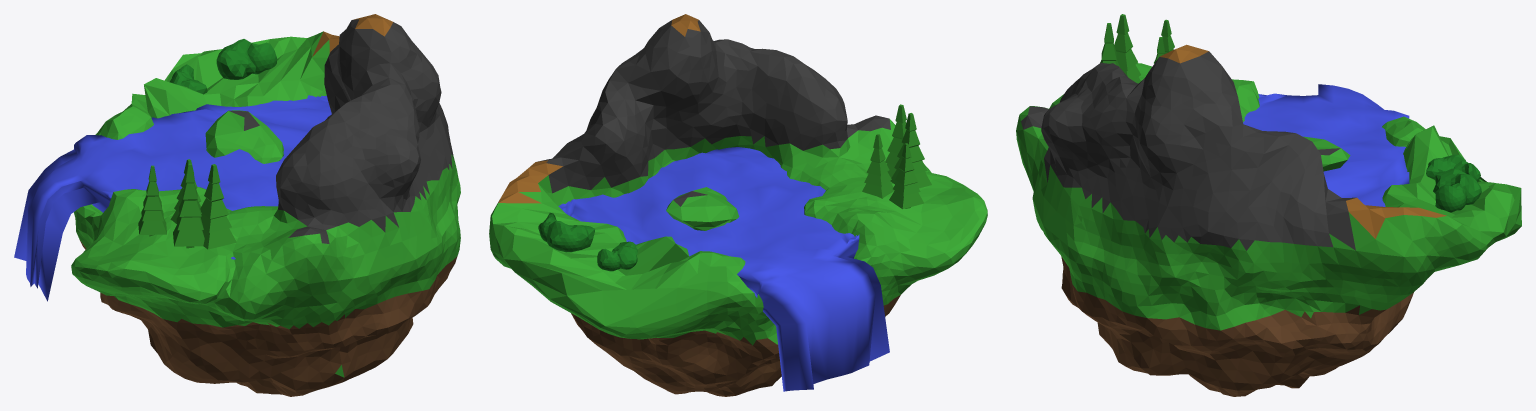
The model's file is planet.glb.
3 renders of one model, left to right at view 1: azimuth 30°, elevation 25°; view 2: azimuth 150°, elevation 25°; view 3: azimuth 270°, elevation 25°, orthographic. The views are drawn at different scales.
Visible parts, largest first — view 1: Icosphere, Plane, Cube, Cube.002, Cube.003, Icosphere.002, Icosphere.001, Icosphere.004; view 2: Icosphere, Plane, Icosphere.002, Cube.003, Cube.001, Cube.002, Cube, Icosphere.004, Icosphere.003; view 3: Icosphere, Plane, Cube.002, Icosphere.002, Icosphere.001, Icosphere.004, Cube.
Boxes of the visible parts, left/top/right/bottom form: Icosphere: left=71, top=14, right=460, bottom=396; Plane: left=14, top=95, right=331, bottom=301; Cube: left=200, top=164, right=236, bottom=249; Cube.002: left=173, top=163, right=204, bottom=248; Cube.003: left=138, top=165, right=166, bottom=236; Icosphere.002: left=216, top=39, right=256, bottom=79; Icosphere.001: left=247, top=42, right=277, bottom=74; Icosphere.004: left=169, top=71, right=207, bottom=94; Icosphere: left=489, top=14, right=987, bottom=396; Plane: left=558, top=147, right=889, bottom=391; Icosphere.002: left=547, top=221, right=594, bottom=252; Cube.003: left=889, top=143, right=924, bottom=209; Cube.001: left=862, top=134, right=894, bottom=198; Cube.002: left=890, top=113, right=931, bottom=188; Cube: left=885, top=104, right=906, bottom=177; Icosphere.004: left=612, top=241, right=637, bottom=269; Icosphere.003: left=597, top=248, right=620, bottom=271; Icosphere: left=1016, top=44, right=1521, bottom=396; Plane: left=1243, top=84, right=1409, bottom=206; Cube.002: left=1114, top=14, right=1140, bottom=83; Icosphere.002: left=1433, top=168, right=1481, bottom=204; Icosphere.001: left=1435, top=183, right=1467, bottom=212; Icosphere.004: left=1426, top=154, right=1465, bottom=179; Cube: left=1100, top=23, right=1119, bottom=67.
Bounding box in the file's own units: 23.3 × 20.11 × 24.65.
